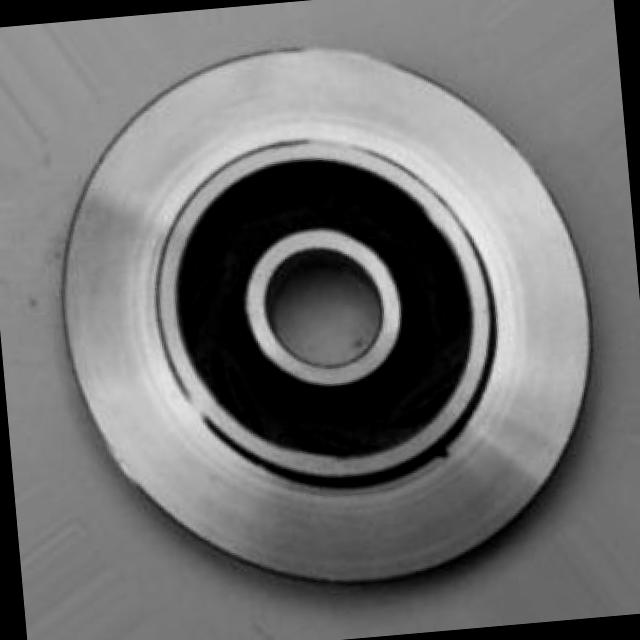Defect: (430, 439, 460, 468)
